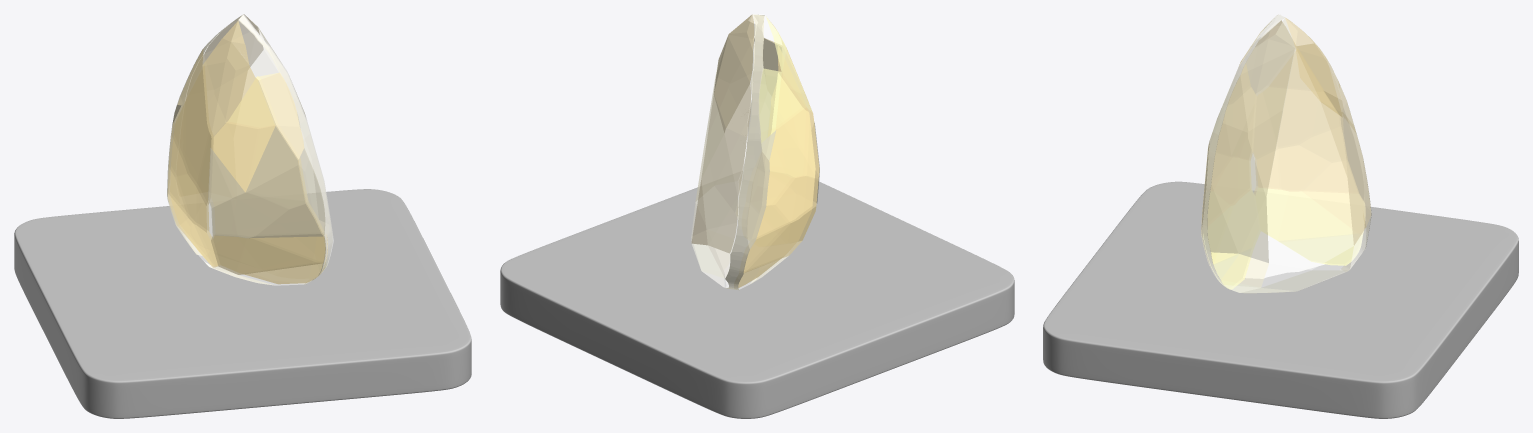
File: incompAR.gltf
3 renders of one model, left to right at view 1: azimuth 30°, elevation 25°; view 2: azimuth 150°, elevation 25°; view 3: azimuth 270°, elevation 25°, orthographic. The views are drawn at different scales.
Visible parts, largest first — view 1: Rounded Cube Flat, body (×11); view 2: Rounded Cube Flat, body (×9); view 3: body (×16), Rounded Cube Flat.
Boxes of the visible parts, box(x1,y1,x2,y2) form: Rounded Cube Flat: box(14, 189, 471, 418); body (×11): box(167, 14, 333, 284); Rounded Cube Flat: box(500, 172, 1014, 418); body (×9): box(691, 14, 819, 290); body (×16): box(1201, 14, 1371, 293); Rounded Cube Flat: box(1043, 181, 1518, 418).
Bounding box in the file's own units: 1.18 × 0.8302 × 1.18.
